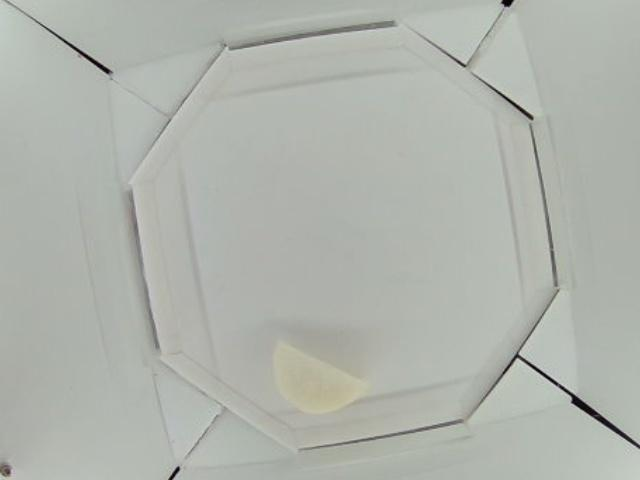Mooli: (268, 341, 368, 416)
